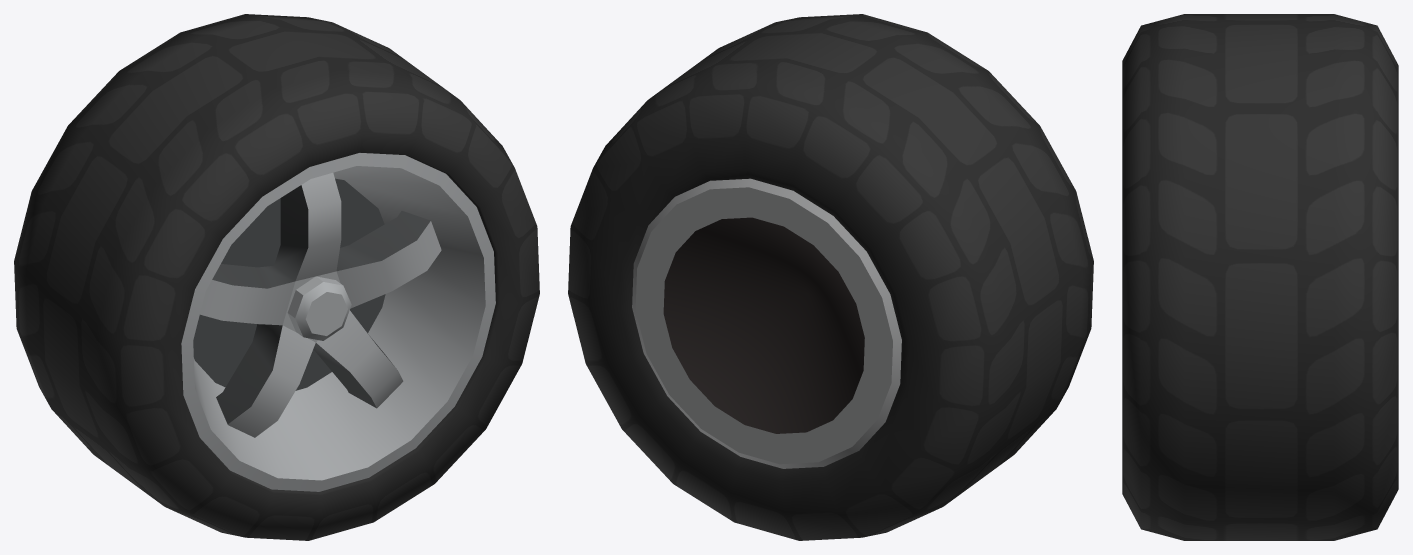
The model's file is Wheel_13.fbx.
3 views of the same model, side by side, from view 1: azimuth 30°, elevation 25°; view 2: azimuth 150°, elevation 25°; view 3: azimuth 270°, elevation 25° (orthographic). The views are drawn at different scales.
Parts seen in each view (by area): view 1: Wheel_13; view 2: Wheel_13; view 3: Wheel_13.
Boxes of the visible parts, box(x1,y1,x2,y2) form: Wheel_13: box(14, 14, 539, 540); Wheel_13: box(568, 14, 1093, 540); Wheel_13: box(1122, 14, 1398, 540).
Bounding box in the file's own units: 95 × 50 × 95.
